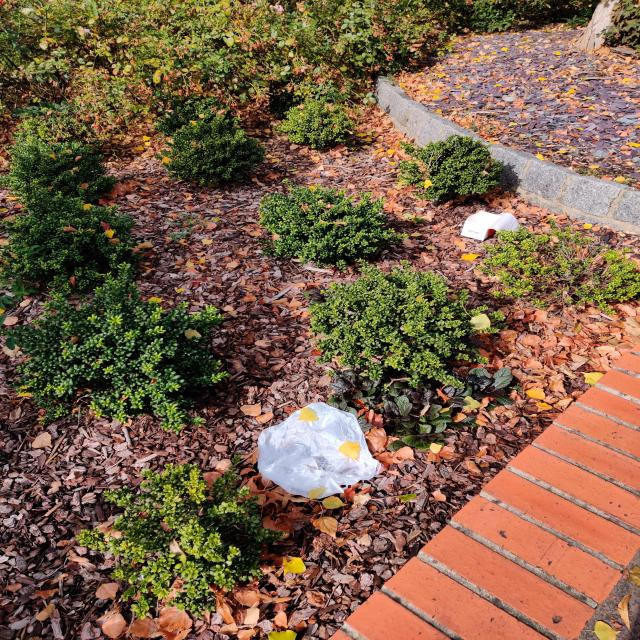litter: (260, 402, 381, 497), (461, 211, 520, 241)
